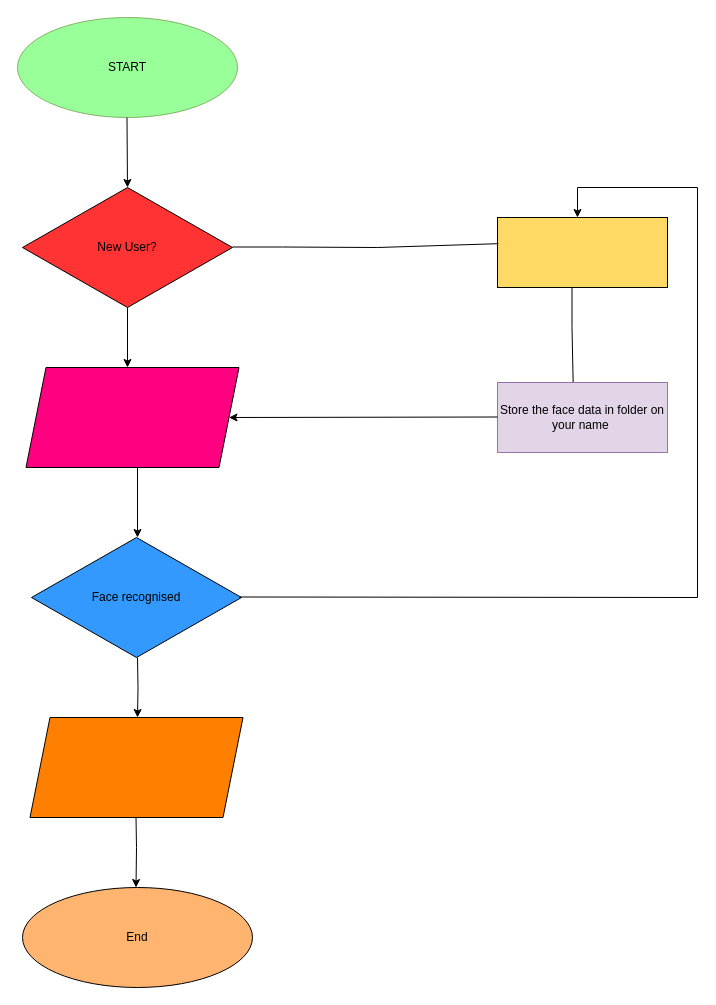
Some shapes in this 716 by 1005 pixel diagram are drawn without their labels. The centre of each missing label's shape, as x and y in pixels:
Give your photogarph: the point at 582,252
Recognise the face: the point at 132,417
Stored in CSV file registration number and date: the point at 136,767
